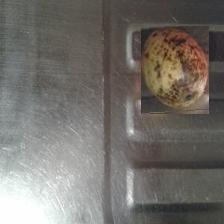Mango Semirotten: (141, 27, 209, 115)
